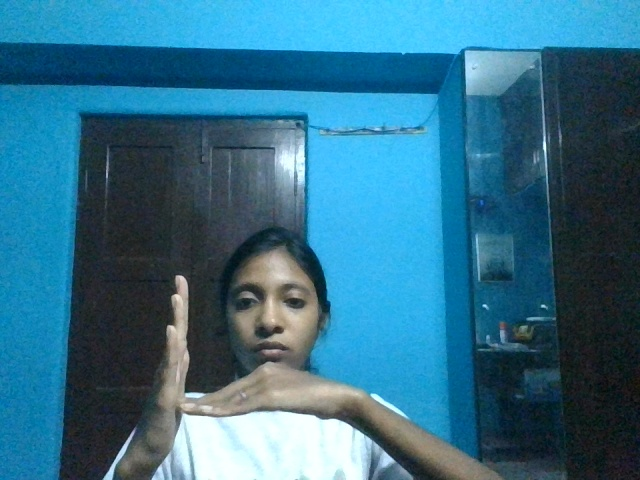Z: (131, 266, 389, 472)
